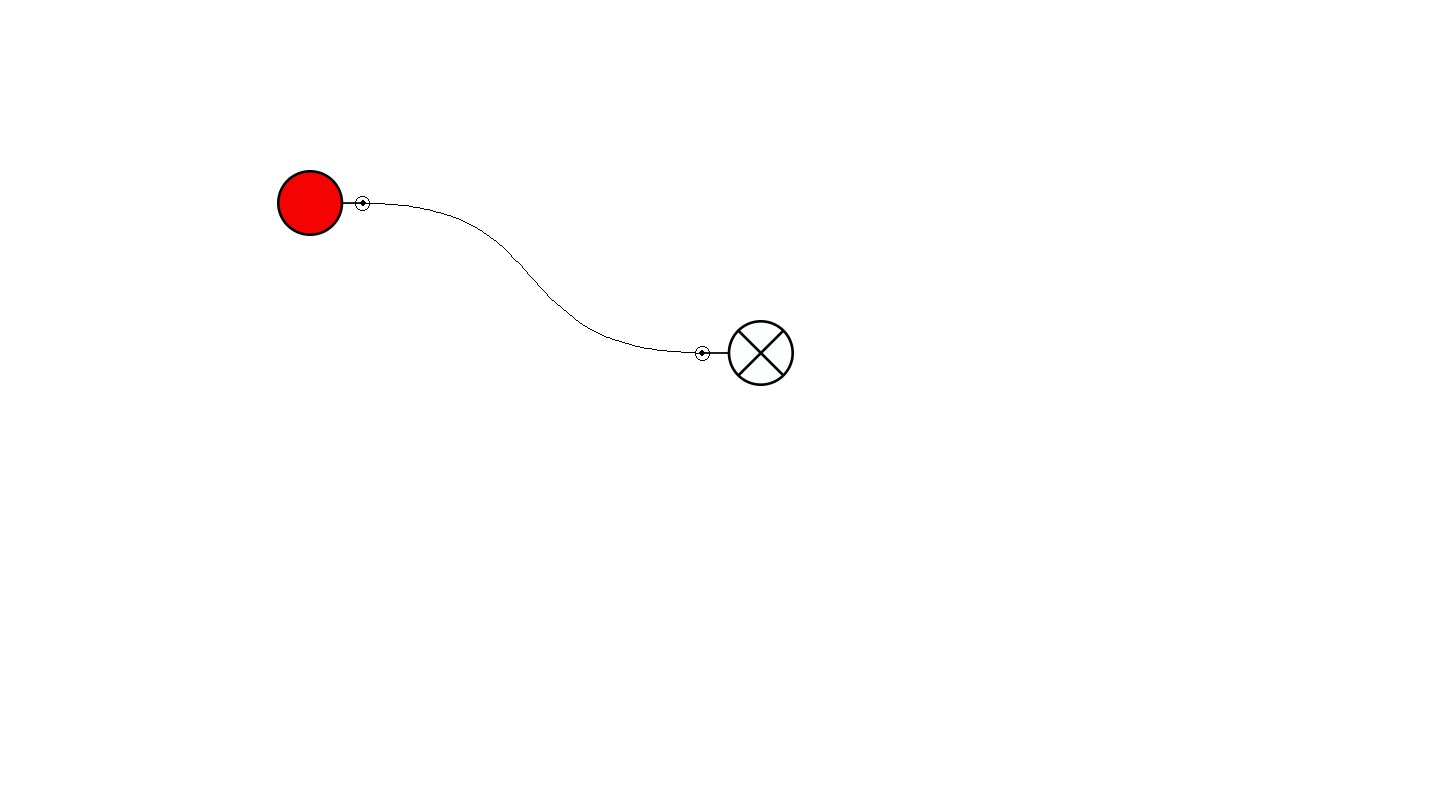bulb: (695, 320, 794, 386)
switch_False: (277, 170, 370, 236)
